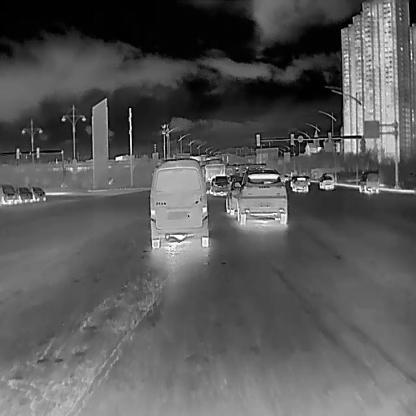car: (148, 156, 209, 250), (235, 166, 287, 223), (226, 178, 243, 215), (359, 171, 378, 193), (0, 180, 16, 204), (209, 175, 228, 195), (292, 173, 308, 192), (16, 185, 31, 202), (319, 173, 334, 189), (31, 185, 45, 201)
